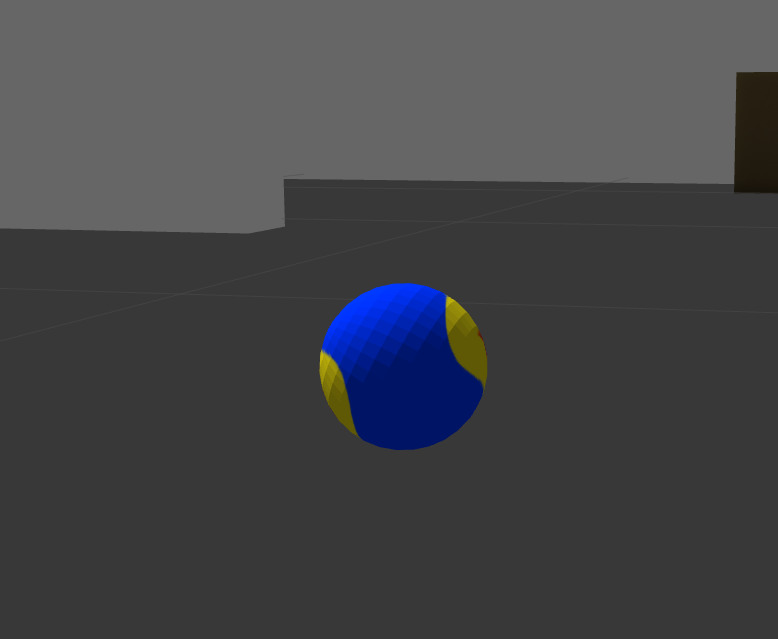toy story ball: (318, 283, 485, 451)
